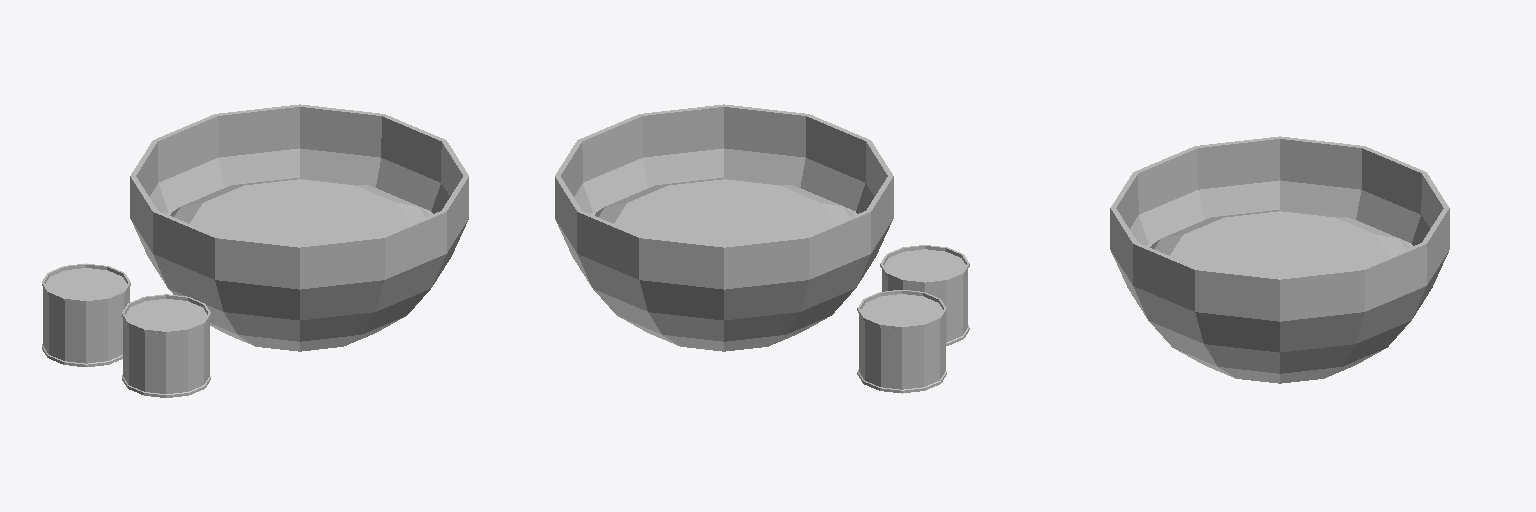
Rendered from condensed milk(grp).obj.
3 views of the same model, side by side, from view 1: azimuth 30°, elevation 25°; view 2: azimuth 150°, elevation 25°; view 3: azimuth 270°, elevation 25° (orthographic).
Parts seen in each view (by area): view 1: group3; view 2: group3; view 3: group3.
Part boxes in pixels (left/top/right/bottom): group3: left=42, top=104, right=468, bottom=397; group3: left=555, top=104, right=969, bottom=393; group3: left=1110, top=136, right=1449, bottom=383.
Size of the model in its own units: 133 by 46.29 by 103.